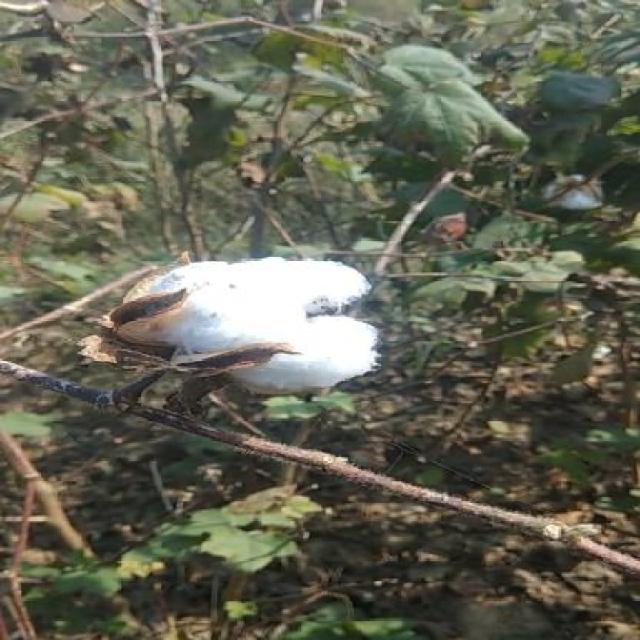cotton_ready: (41, 233, 442, 445)
